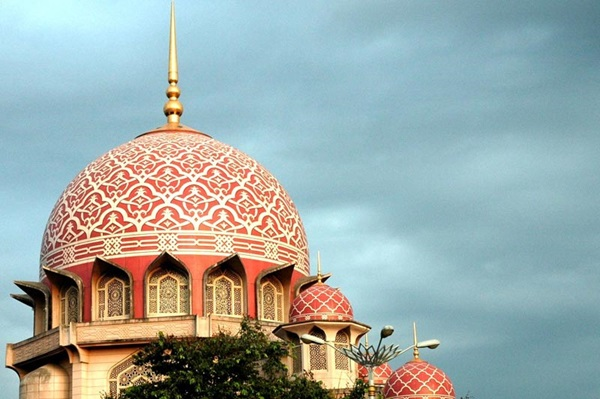Mosque: (32, 1, 361, 376)
